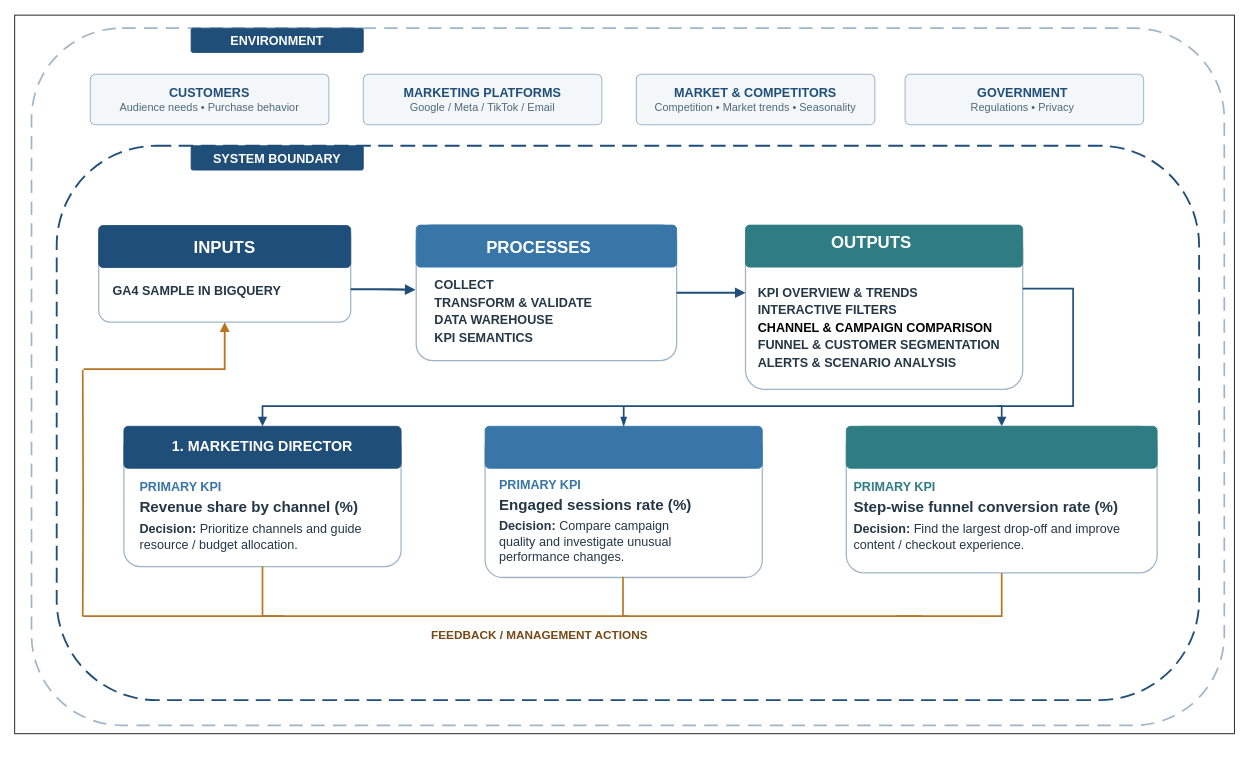
Some shapes in this 1251 by 758 pixel diagram are drawn without their labels. The centre of each missing label's shape, as x and y in pixels:
"2. DIGITAL MARKETING MANAGER" goes at pixel 623 446.
"3. E-COMMERCE & CONTENT SPECIALIST" goes at pixel 1001 446.
